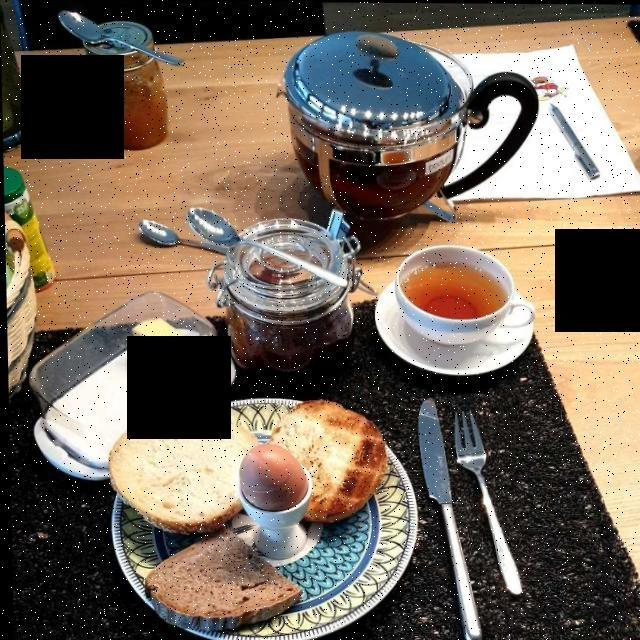bread: (114, 387, 386, 531), (126, 531, 310, 633)
butter: (118, 315, 212, 383)
egg: (230, 446, 307, 518)
tea: (414, 252, 489, 316)
